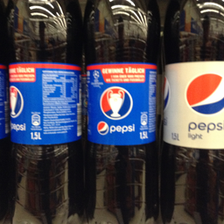soda: (5, 1, 84, 224), (82, 1, 159, 223), (161, 3, 223, 224)
